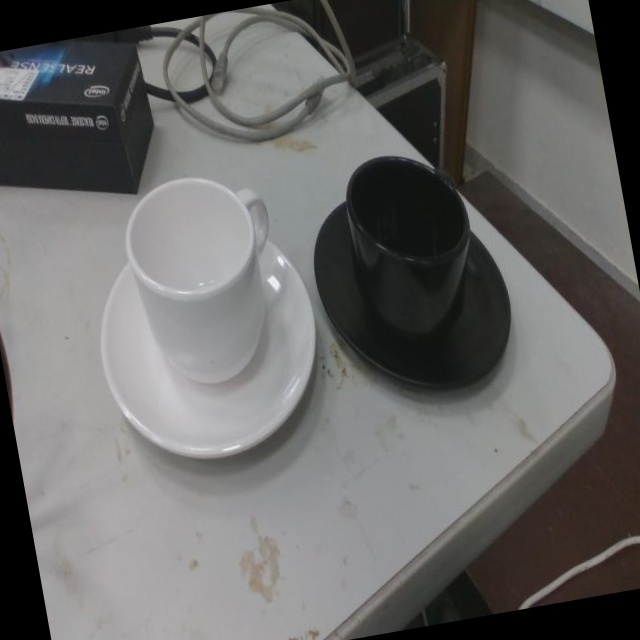black: (315, 150, 506, 405)
white: (94, 172, 316, 468)
